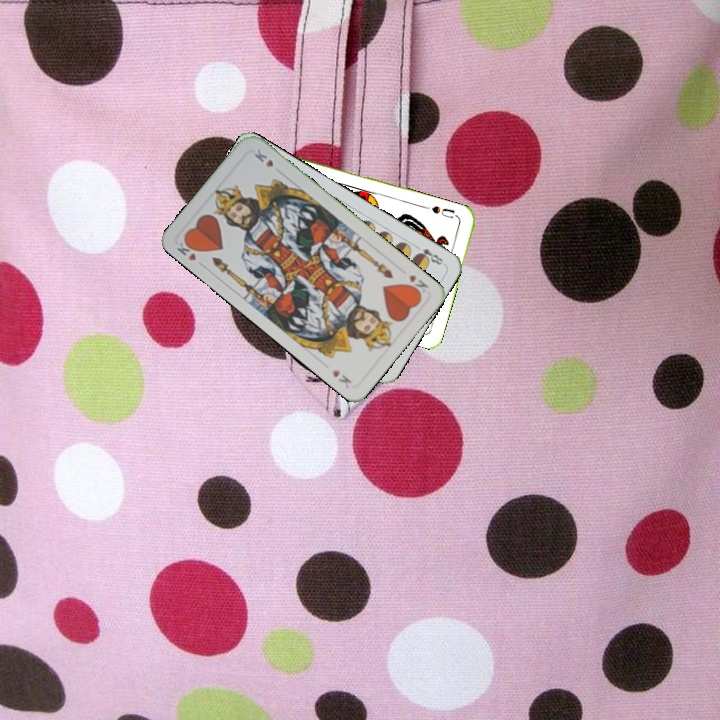E8: (411, 241, 446, 268)
HK: (173, 234, 207, 270), (402, 271, 431, 298)
SU: (428, 202, 462, 221)
